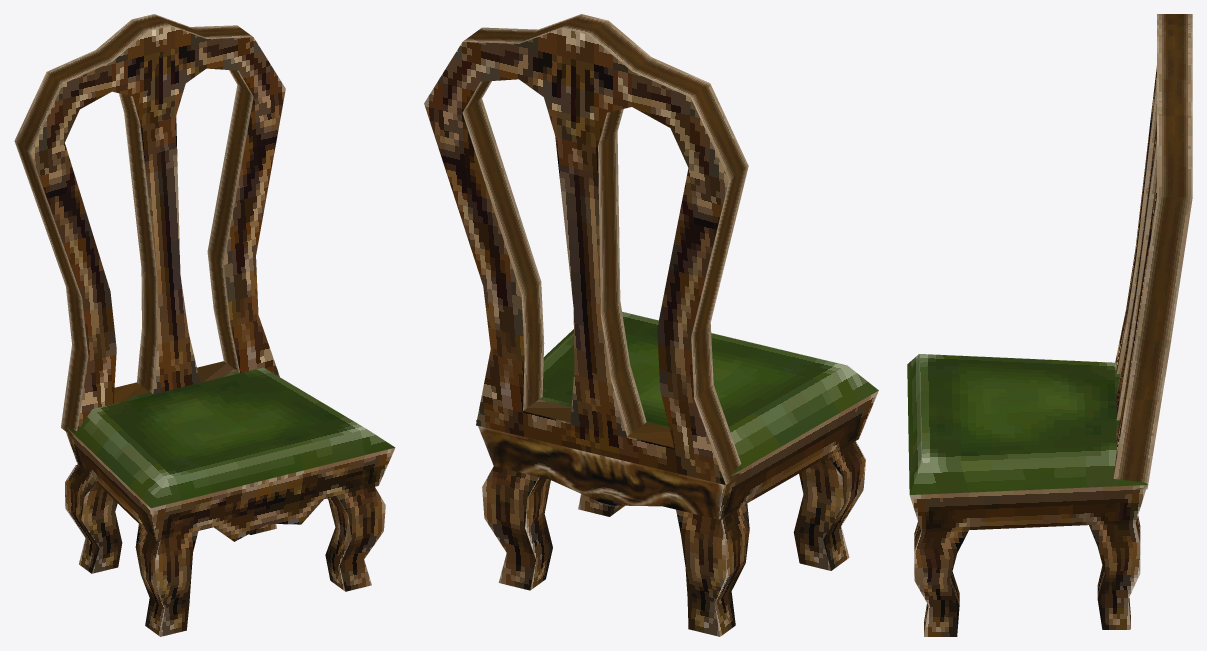
File: isu28_1.glb
The picture shows the model from 3 angles, left to right: view 1: azimuth 30°, elevation 25°; view 2: azimuth 150°, elevation 25°; view 3: azimuth 270°, elevation 25°; orthographic projection. The views are drawn at different scales.
Parts seen in each view (by area): view 1: isu28_1; view 2: isu28_1; view 3: isu28_1.
Boxes of the visible parts, bbox=[...] form: isu28_1: bbox=[14, 14, 395, 636]; isu28_1: bbox=[424, 14, 878, 636]; isu28_1: bbox=[907, 14, 1192, 636].
Size of the model in its own units: 135 by 255 by 120.
8 materials, 8 textured.
